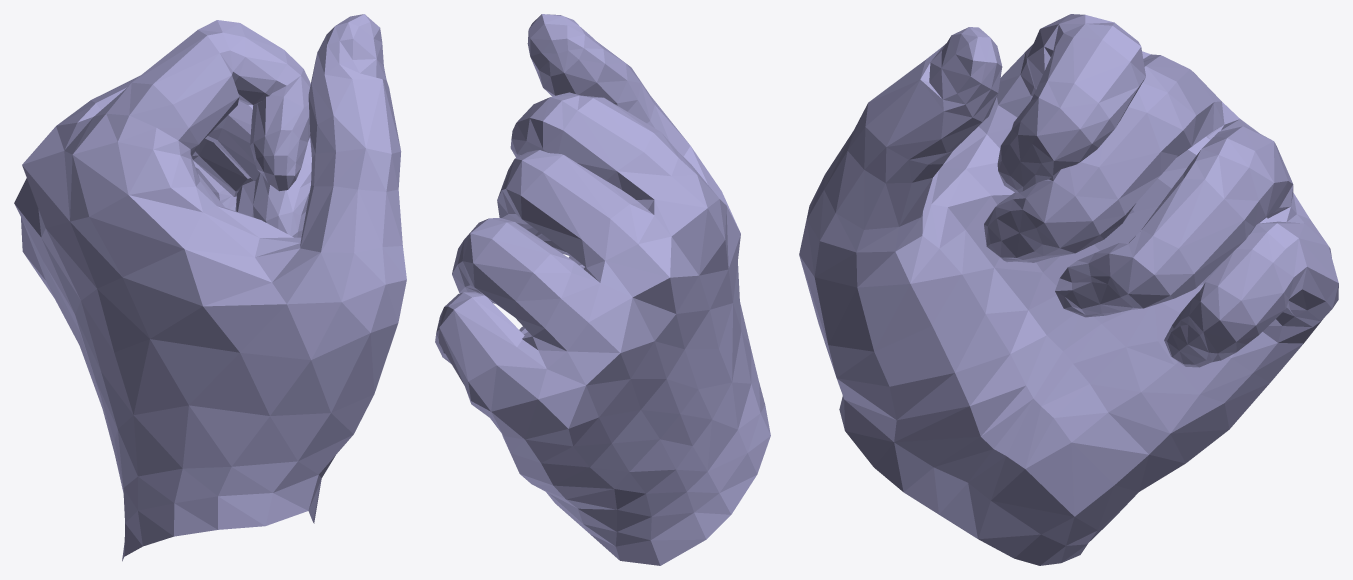
The model's file is frame_0046_source_000046_hand.glb.
The picture shows the model from 3 angles, left to right: view 1: azimuth 30°, elevation 25°; view 2: azimuth 150°, elevation 25°; view 3: azimuth 270°, elevation 25°; orthographic projection. The views are drawn at different scales.
Visible parts, largest first — view 1: world; view 2: world; view 3: world.
Boxes of the visible parts, bbox=[...] form: world: bbox=[14, 14, 406, 561]; world: bbox=[435, 14, 770, 565]; world: bbox=[799, 14, 1338, 565].
Bounding box in the file's own units: 0.06 × 0.1217 × 0.101.
